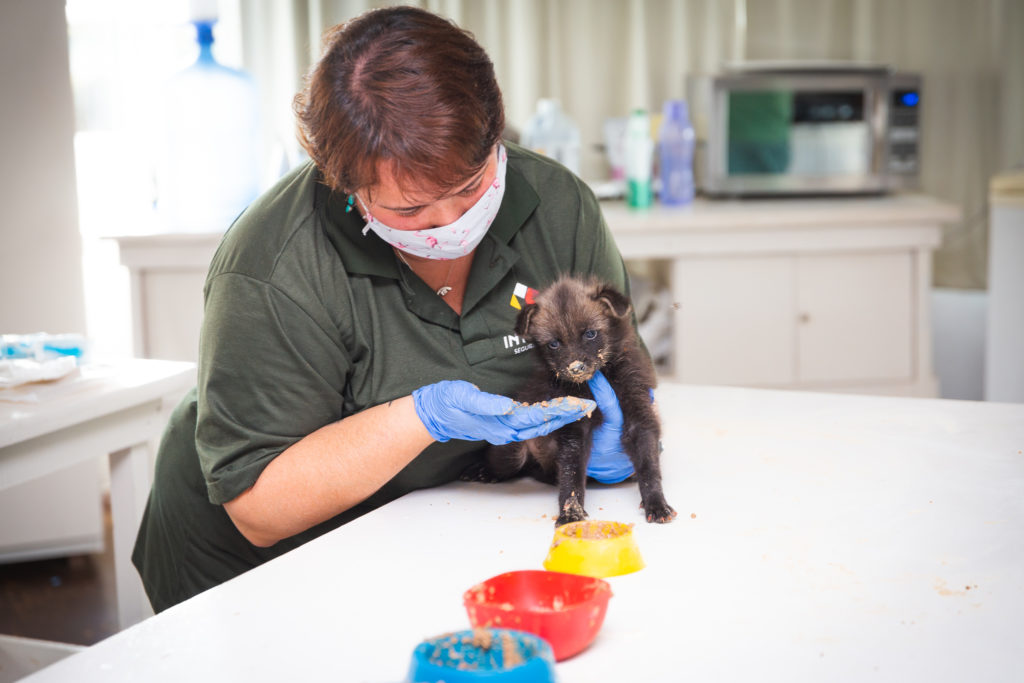LoboGuara: (525, 275, 676, 531)
